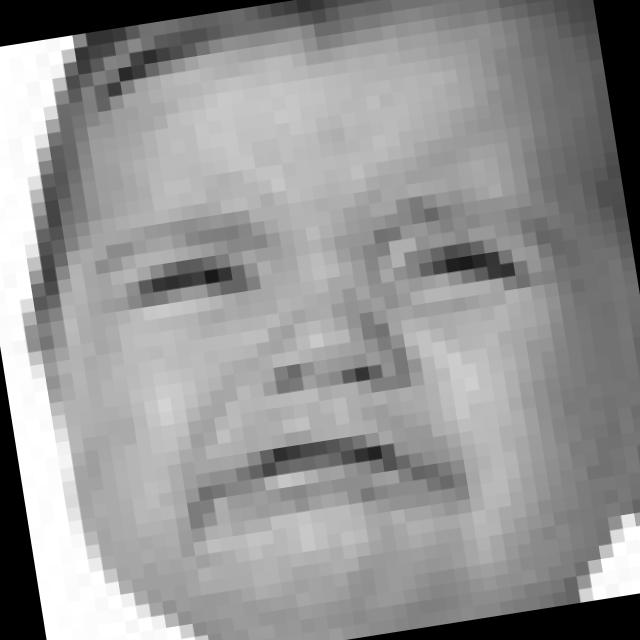sad: (75, 119, 632, 576)
